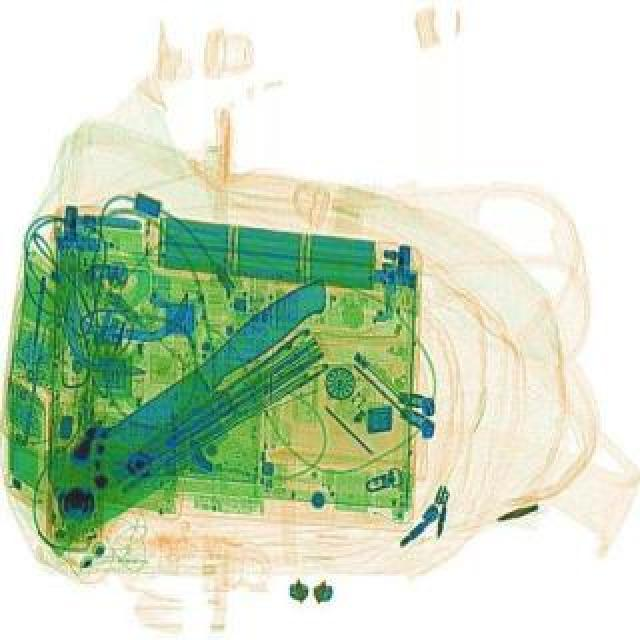knife: (16, 272, 376, 542)
